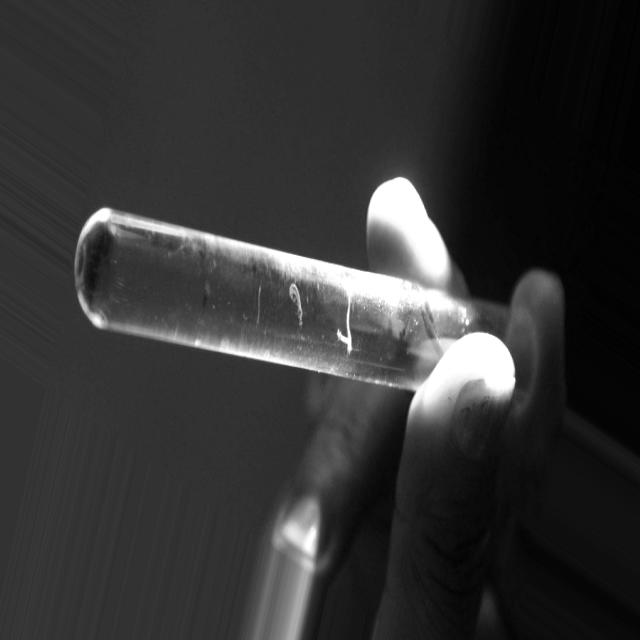larvas: (343, 299, 359, 355), (289, 282, 304, 328), (251, 282, 266, 325)
